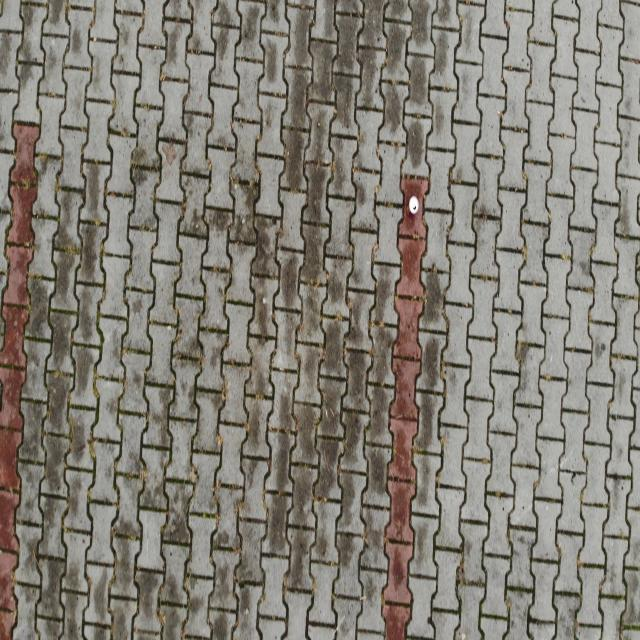rubbish: (409, 195, 420, 217)
